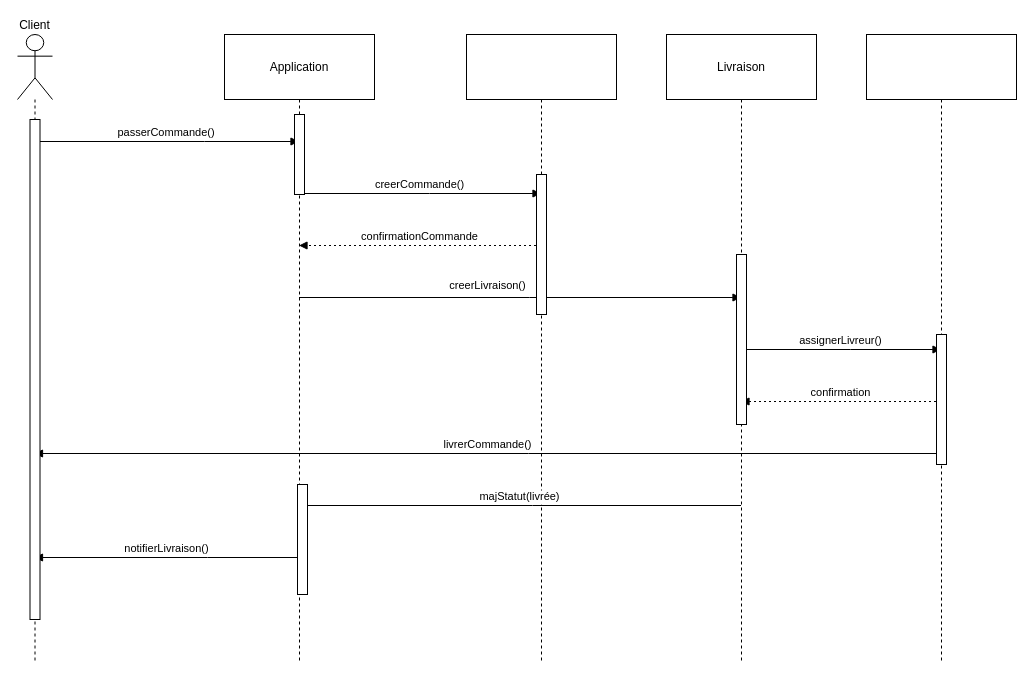
Image size: 1034x680. Some labels were removed from this diagram. The shapes that lost their labels are listed below. From the top down, each one's centre as x and y in pixels, then its label:
At point (541, 348): "Commande".
At point (941, 348): "Livreur".
